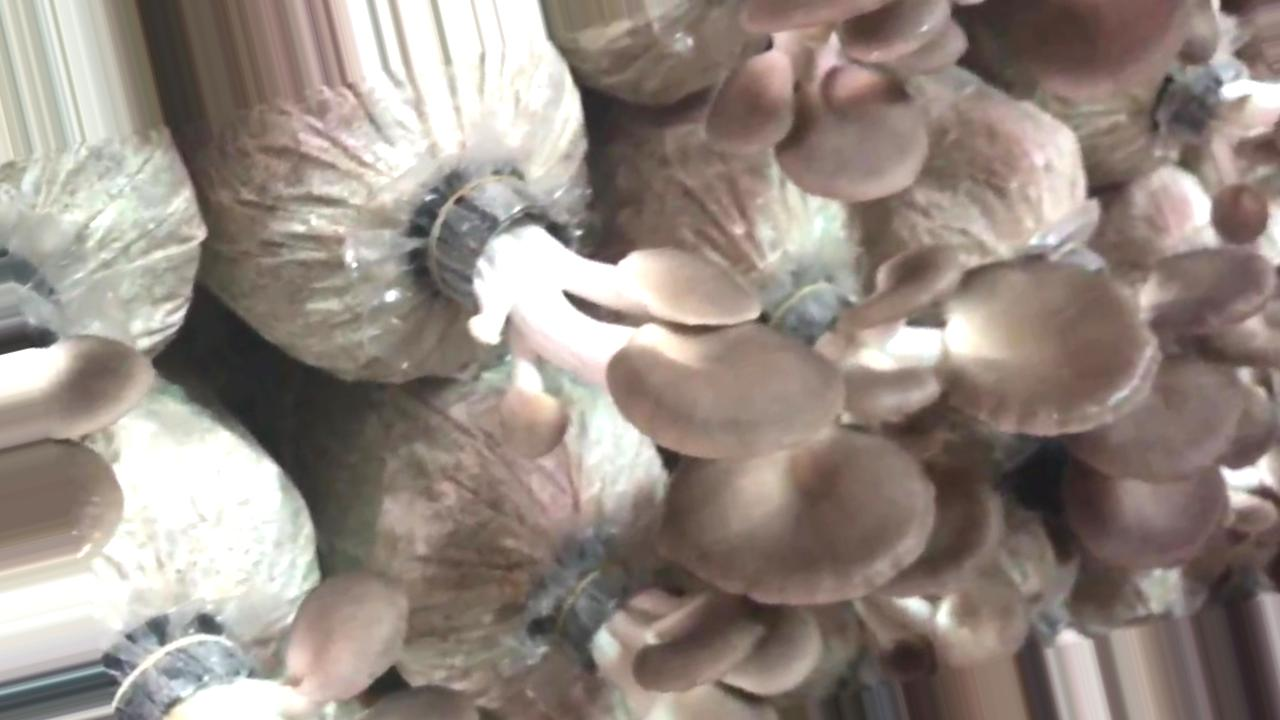nam: (657, 241, 1160, 605), (434, 173, 843, 467), (713, 1, 968, 203), (1, 274, 148, 572), (557, 564, 819, 720)
